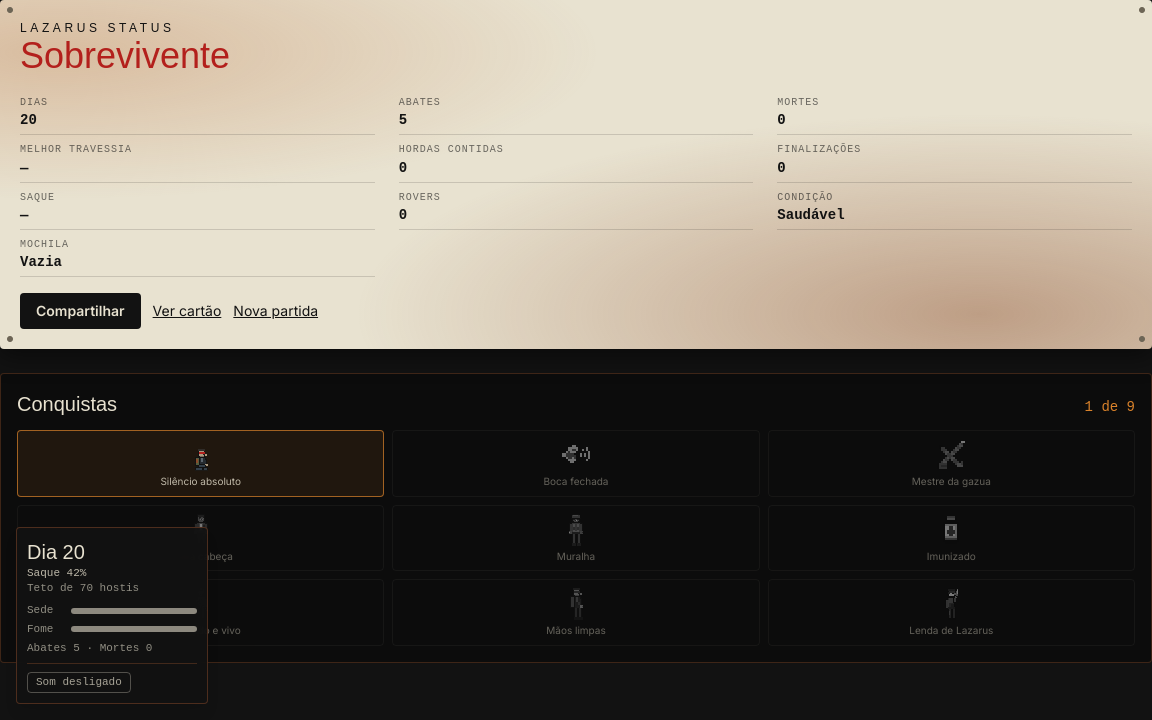
achievements › the dossier can start a new run
The image size is (1152, 720).
Click the button "Nova partida" at (276, 311), box [233,301,318,321]
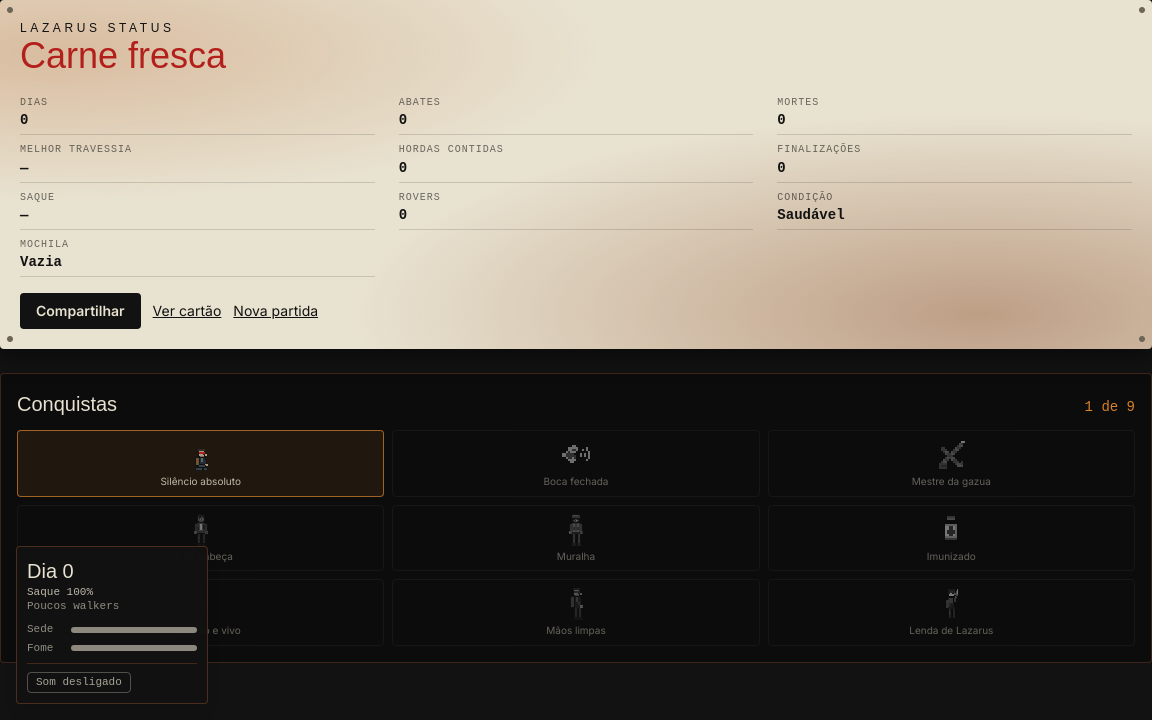
Expected: the message named "sobrevivente" shows "Dia 0", [16,546,208,704]
